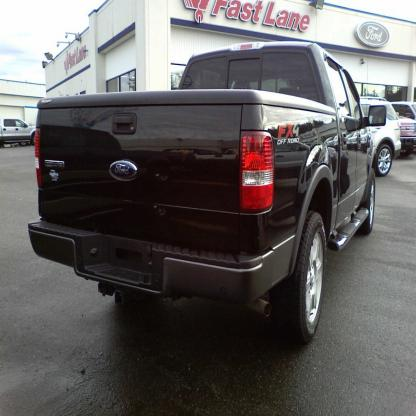car: (28, 42, 372, 347)
